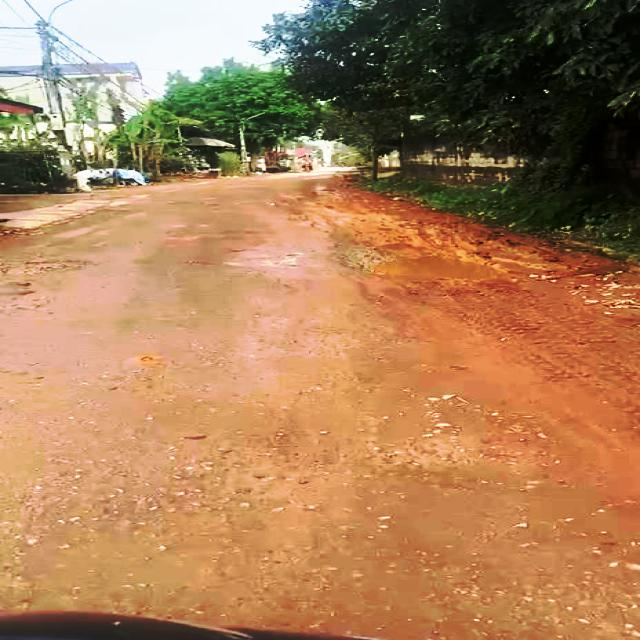pothole: (343, 250, 509, 284), (0, 253, 102, 276)
